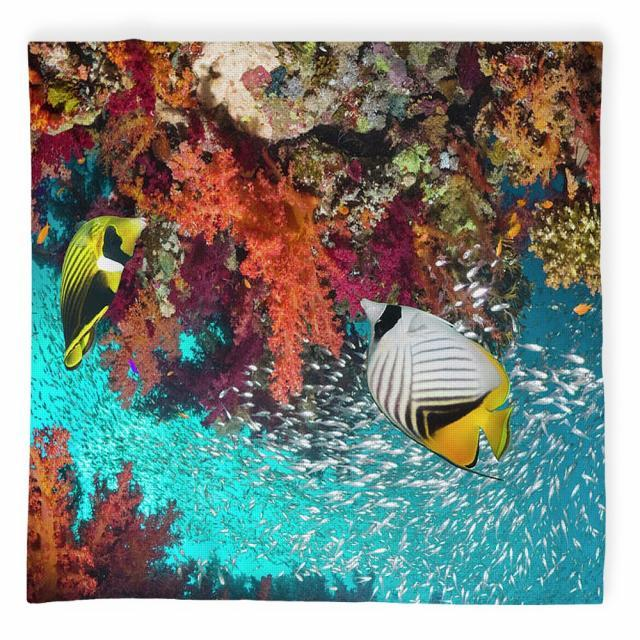ButterflyFish: (342, 278, 526, 498), (49, 182, 166, 382)
